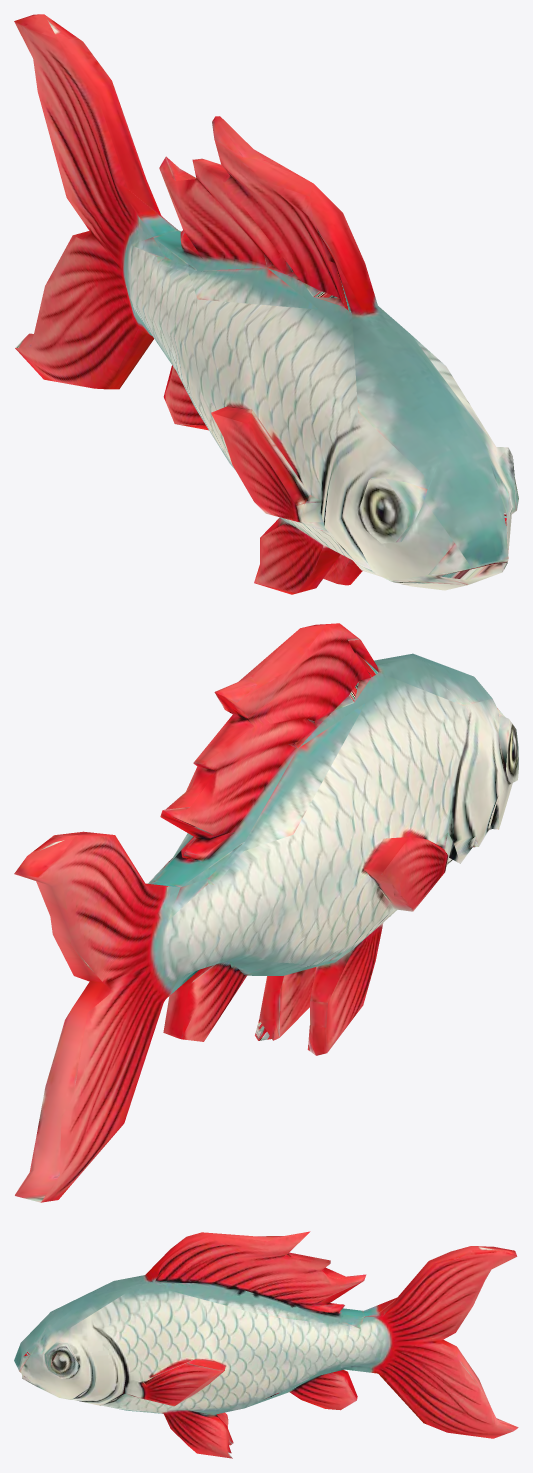
Rendered from star-bit-guppy.glb.
3 renders of one model, top to bottom at view 1: azimuth 30°, elevation 25°; view 2: azimuth 150°, elevation 25°; view 3: azimuth 270°, elevation 25°, orthographic. The views are drawn at different scales.
Visible parts, largest first — view 1: star-bit-guppy; view 2: star-bit-guppy; view 3: star-bit-guppy.
Part boxes in pixels (box(x1,y1,x2,y2)): star-bit-guppy: box(14, 14, 518, 594); star-bit-guppy: box(14, 623, 518, 1202); star-bit-guppy: box(14, 1231, 518, 1458).
Size of the model in its own units: 0.2146 by 0.4783 by 1.
Materials: 1 (1 with a texture image).
